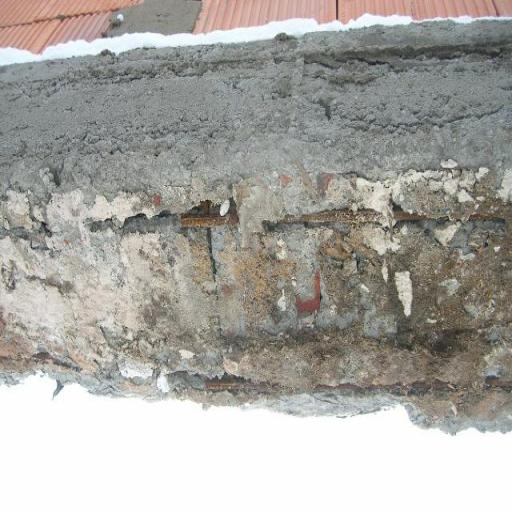spalling: (0, 165, 512, 428)
